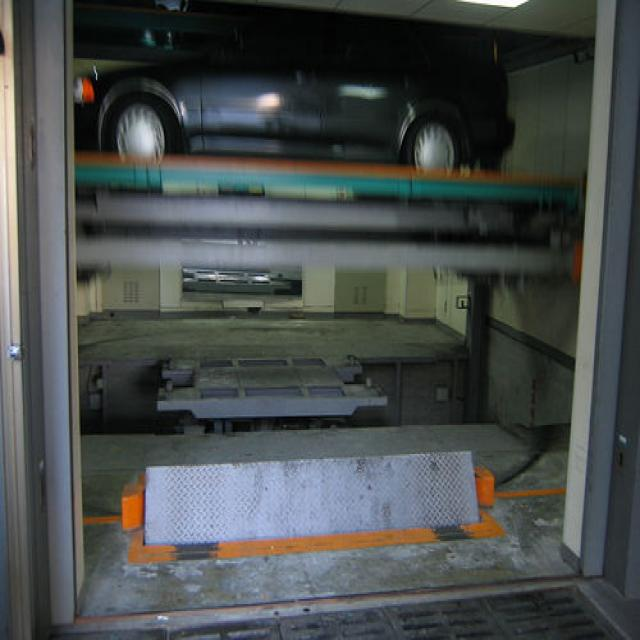Car: (74, 29, 516, 168)
